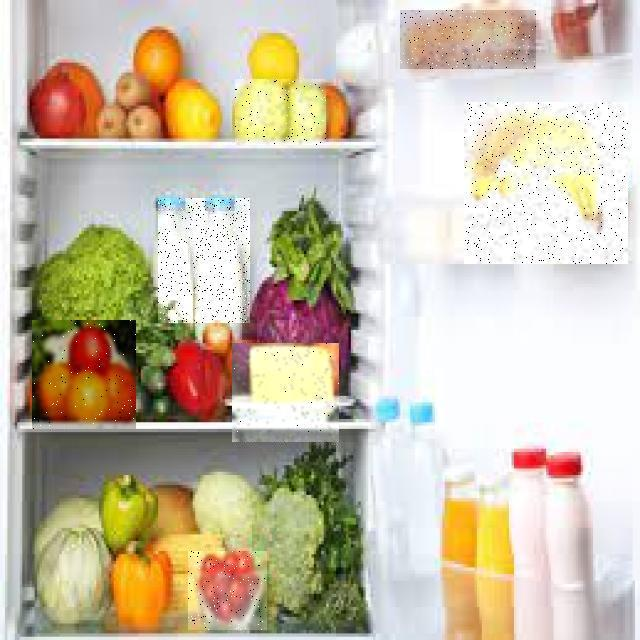Apple: (235, 79, 326, 145)
Banana: (464, 102, 628, 264)
Cheese: (232, 343, 339, 442)
Eggs: (401, 10, 537, 69)
Milk: (158, 198, 250, 323)
Tomatoes: (32, 320, 136, 429), (188, 551, 267, 630)
